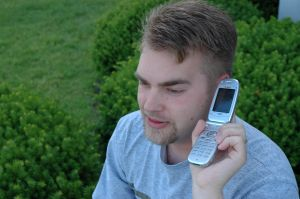phone: (194, 73, 236, 174)
talk: (135, 70, 253, 194)
